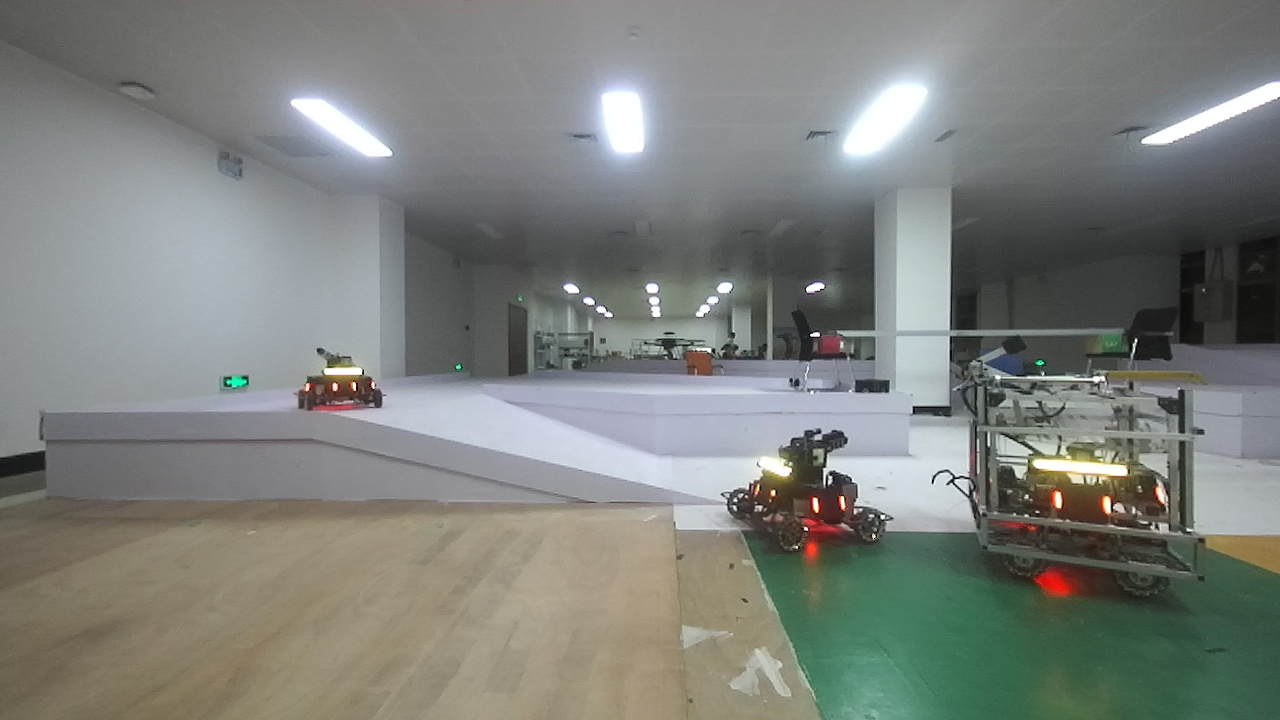car: (944, 345, 1217, 610), (720, 427, 894, 569), (294, 339, 388, 416)
